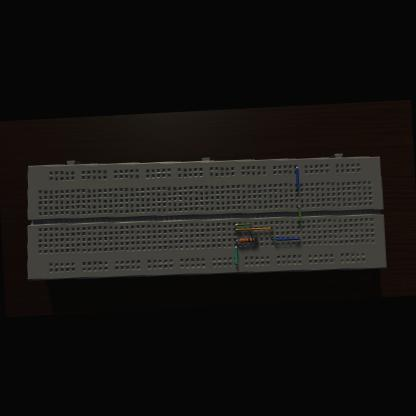breadboard: (21, 145, 386, 288)
resistor: (239, 237, 254, 242)
wire: (233, 226, 272, 231), (271, 236, 300, 242), (294, 166, 298, 190), (296, 206, 301, 223), (234, 244, 238, 265), (234, 222, 250, 226), (234, 240, 239, 242), (250, 233, 257, 234), (254, 239, 257, 240)
